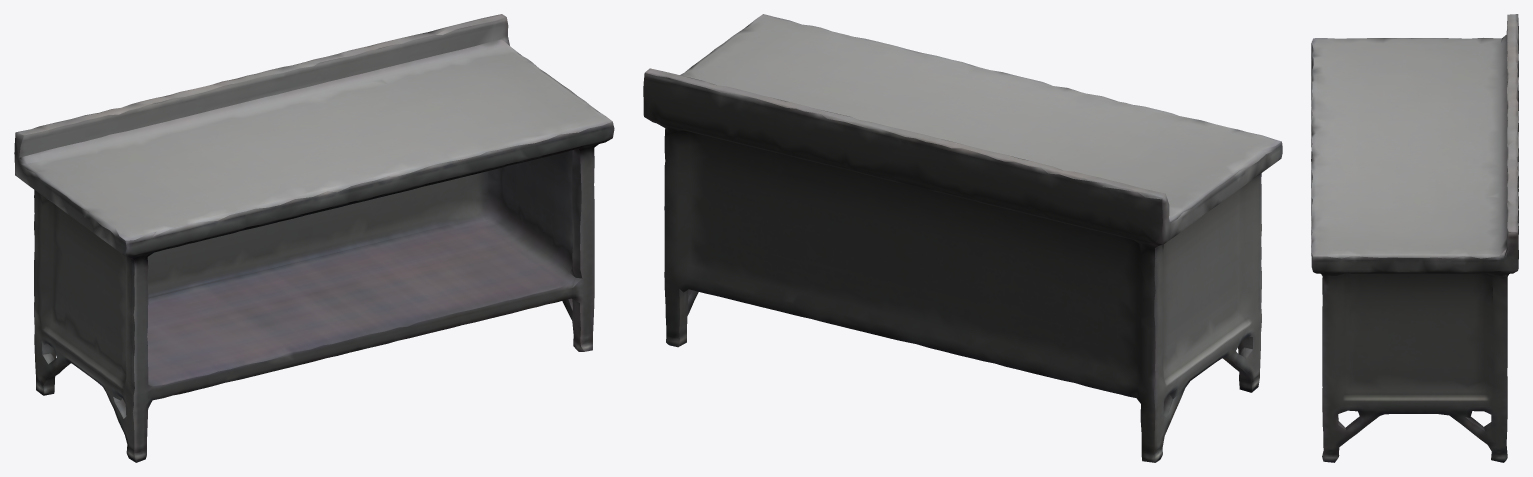
The model's file is prep_table.glb.
3 renders of one model, left to right at view 1: azimuth 30°, elevation 25°; view 2: azimuth 150°, elevation 25°; view 3: azimuth 270°, elevation 25°, orthographic. The views are drawn at different scales.
Visible parts, largest first — view 1: WorkTable; view 2: WorkTable; view 3: WorkTable.
Boxes of the visible parts, x1,y1,x2,y2 form: WorkTable: [14, 14, 614, 462]; WorkTable: [643, 14, 1282, 462]; WorkTable: [1311, 14, 1518, 462].
Size of the model in its own units: 1.5 by 0.7593 by 0.5992.
1 material, 1 textured.
